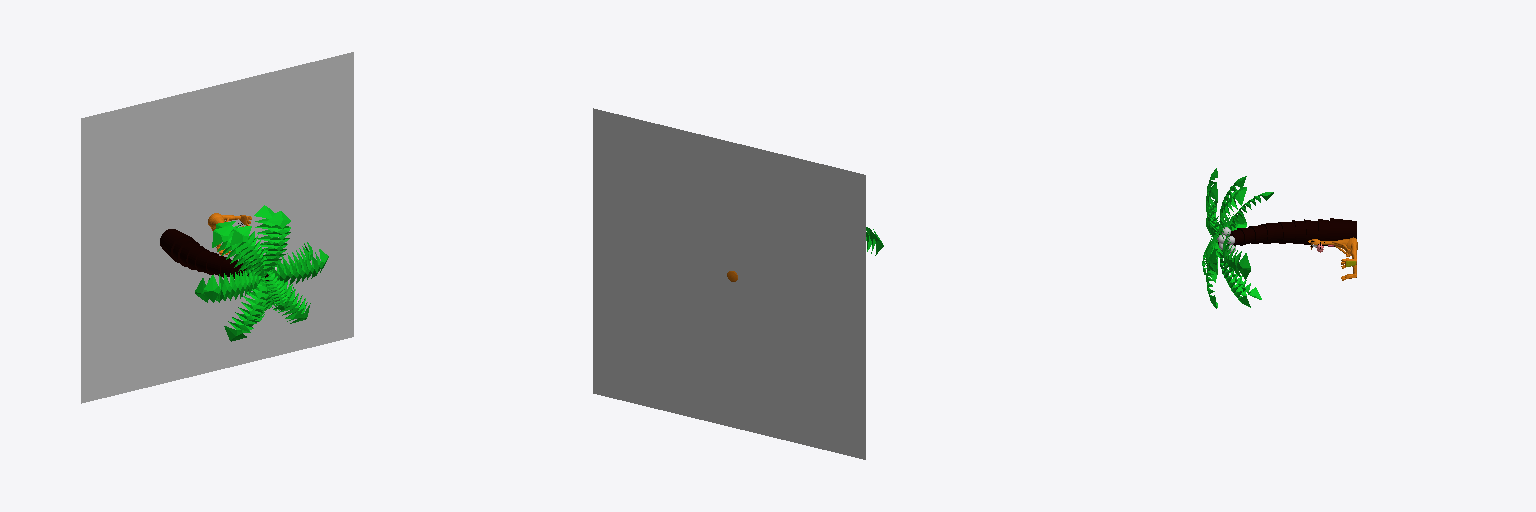
File: crazy.obj
The picture shows the model from 3 angles: view 1: azimuth 30°, elevation 25°; view 2: azimuth 150°, elevation 25°; view 3: azimuth 270°, elevation 25°; orthographic projection.
Visible parts, largest first — view 1: Plane, Plane.005_Plane.006, Cylinder; view 2: Plane; view 3: Plane.005_Plane.006, Cylinder, body02_Mesh.001.
Part boxes in pixels (left/top/right/bottom): Plane: left=81, top=52, right=353, bottom=403; Plane.005_Plane.006: left=195, top=205, right=328, bottom=341; Cylinder: left=160, top=229, right=268, bottom=280; Plane: left=593, top=108, right=865, bottom=459; Plane.005_Plane.006: left=1206, top=168, right=1273, bottom=308; Cylinder: left=1218, top=218, right=1356, bottom=246; body02_Mesh.001: left=1308, top=237, right=1357, bottom=280.
Bounding box in the file's own units: 20 × 20 × 9.88.